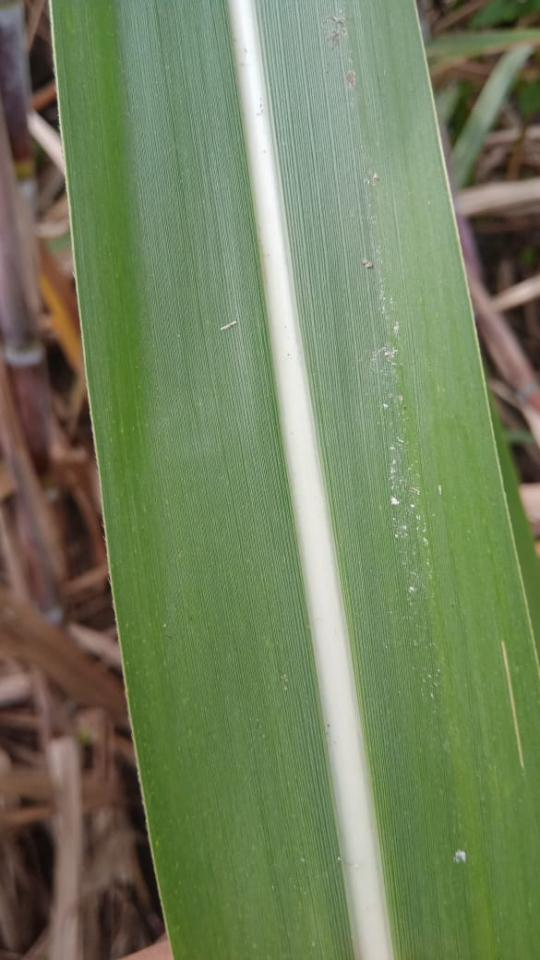Healthy: (50, 0, 539, 959)
